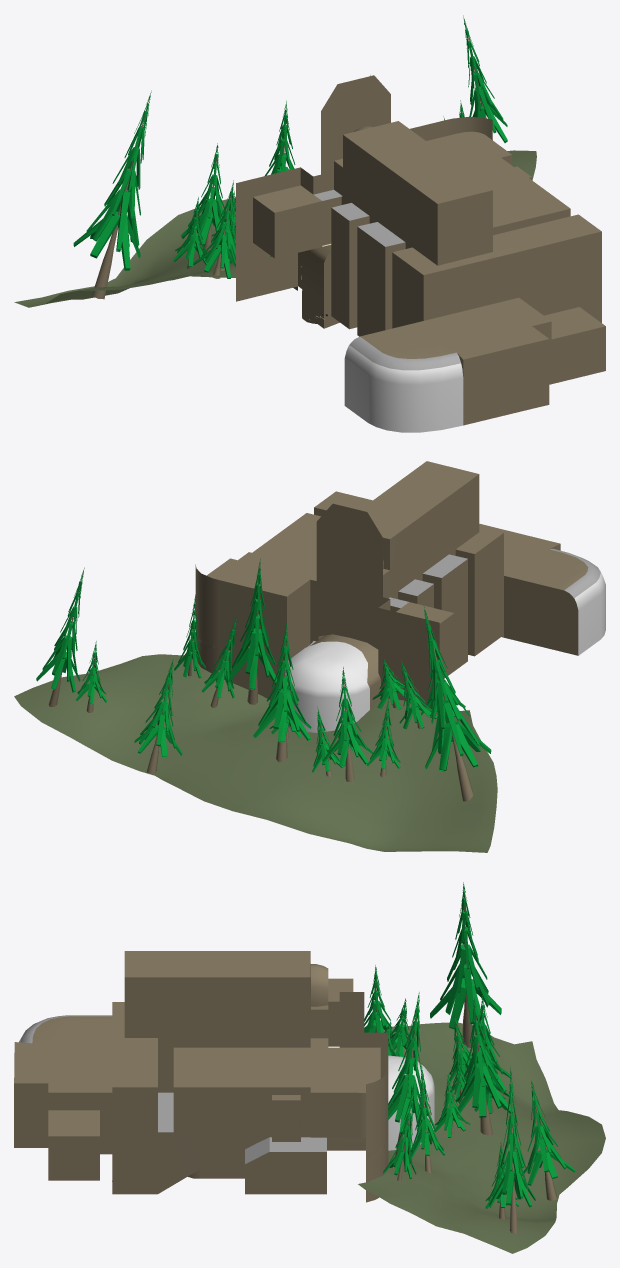
The model's file is FloorV5.fbx.
The picture shows the model from 3 angles, top to bottom: view 1: azimuth 30°, elevation 25°; view 2: azimuth 150°, elevation 25°; view 3: azimuth 270°, elevation 25°; orthographic projection. The views are drawn at different scales.
Parts seen in each view (by area): view 1: Main, Outside_Wall, Leaves (×6), Outside_Ground, Inside_Wall, Trunk; view 2: Outside_Ground, Main, Outside_Wall, Leaves (×12), Glass, Inside_Wall, Tree_02:Leaves, Trunk; view 3: Main, Outside_Ground, Leaves (×12), Outside_Wall, Glass, Inside_Wall.
Boxes of the visible parts, left/top/right/bottom form: Main: left=253, top=121, right=605, bottom=432; Outside_Wall: left=236, top=75, right=492, bottom=301; Leaves (×6): left=73, top=15, right=507, bottom=278; Outside_Ground: left=14, top=150, right=536, bottom=307; Inside_Wall: left=298, top=245, right=339, bottom=328; Trunk: left=92, top=94, right=150, bottom=299; Outside_Ground: left=14, top=654, right=497, bottom=852; Main: left=206, top=461, right=605, bottom=678; Outside_Wall: left=195, top=503, right=439, bottom=711; Leaves (×12): left=36, top=559, right=491, bottom=772; Glass: left=285, top=641, right=369, bottom=732; Inside_Wall: left=310, top=634, right=380, bottom=709; Tree_02:Leaves: left=372, top=658, right=415, bottom=709; Trunk: left=425, top=611, right=473, bottom=801; Main: left=14, top=951, right=380, bottom=1194; Outside_Ground: left=358, top=1022, right=605, bottom=1253; Leaves (×12): left=364, top=882, right=575, bottom=1207; Outside_Wall: left=339, top=992, right=388, bottom=1202; Glass: left=388, top=1055, right=434, bottom=1150; Inside_Wall: left=327, top=1137, right=365, bottom=1150.
Bounding box in the file's own units: 2643 × 1240 × 2690.
